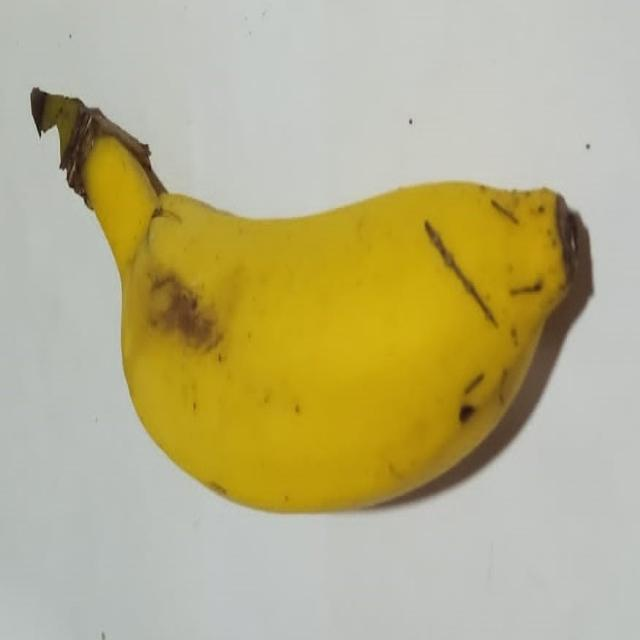banana: (32, 90, 576, 512)
